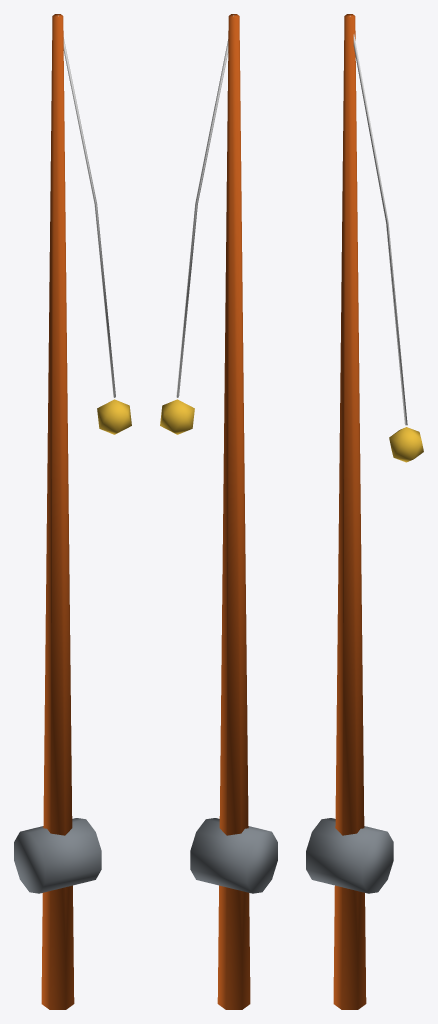
The model's file is hotline_fishing_hook.glb.
3 renders of one model, left to right at view 1: azimuth 30°, elevation 25°; view 2: azimuth 150°, elevation 25°; view 3: azimuth 330°, elevation 25°, orthographic.
Parts seen in each view (by area): view 1: hotline_fishing_hook_v0; view 2: hotline_fishing_hook_v0; view 3: hotline_fishing_hook_v0.
Part boxes in pixels (x1=…): hotline_fishing_hook_v0: x1=14, y1=14, x2=131, y2=1009; hotline_fishing_hook_v0: x1=160, y1=14, x2=277, y2=1009; hotline_fishing_hook_v0: x1=306, y1=14, x2=423, y2=1009.
Bounding box in the file's own units: 0.1061 × 1 × 0.0571.
